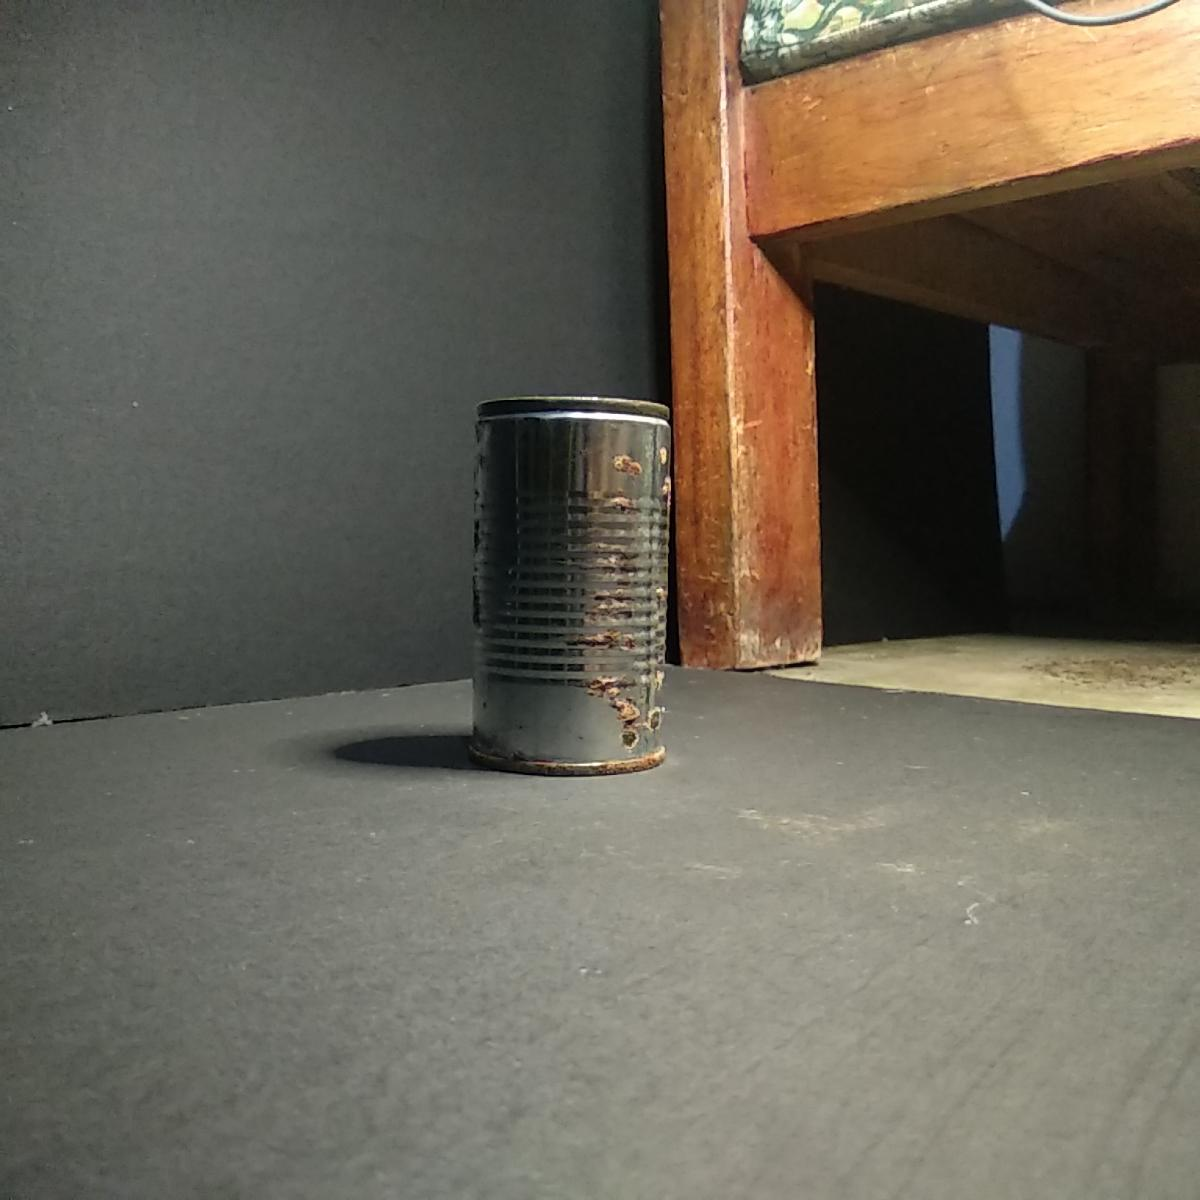Rusted: (462, 376, 686, 796)
